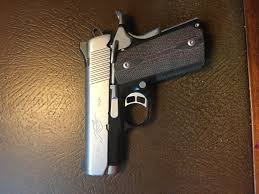gun: (77, 11, 209, 185)
